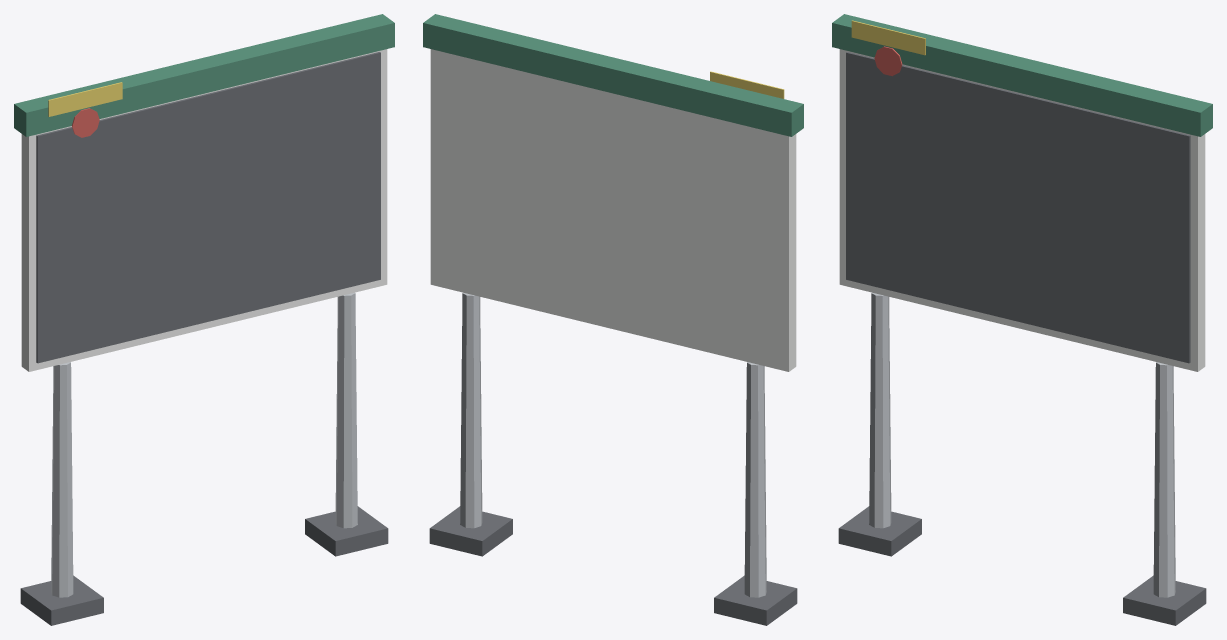
File: racecourse-and-parade-ring-results-board-dc3327f9__38631.glb
The picture shows the model from 3 angles, left to right: view 1: azimuth 30°, elevation 25°; view 2: azimuth 150°, elevation 25°; view 3: azimuth 330°, elevation 25°; orthographic projection.
Parts seen in each view (by area): view 1: results-board; view 2: results-board; view 3: results-board.
Part boxes in pixels (<box>): results-board: <box>14,14,394,625</box>; results-board: <box>423,14,803,625</box>; results-board: <box>832,14,1212,625</box>.
Size of the model in its own units: 3.5 by 4.7 by 0.4999.
